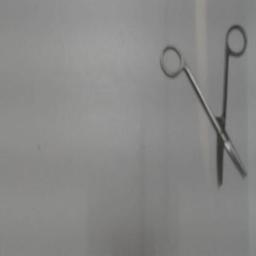Curved Mayo Scissors: (156, 21, 250, 193)
